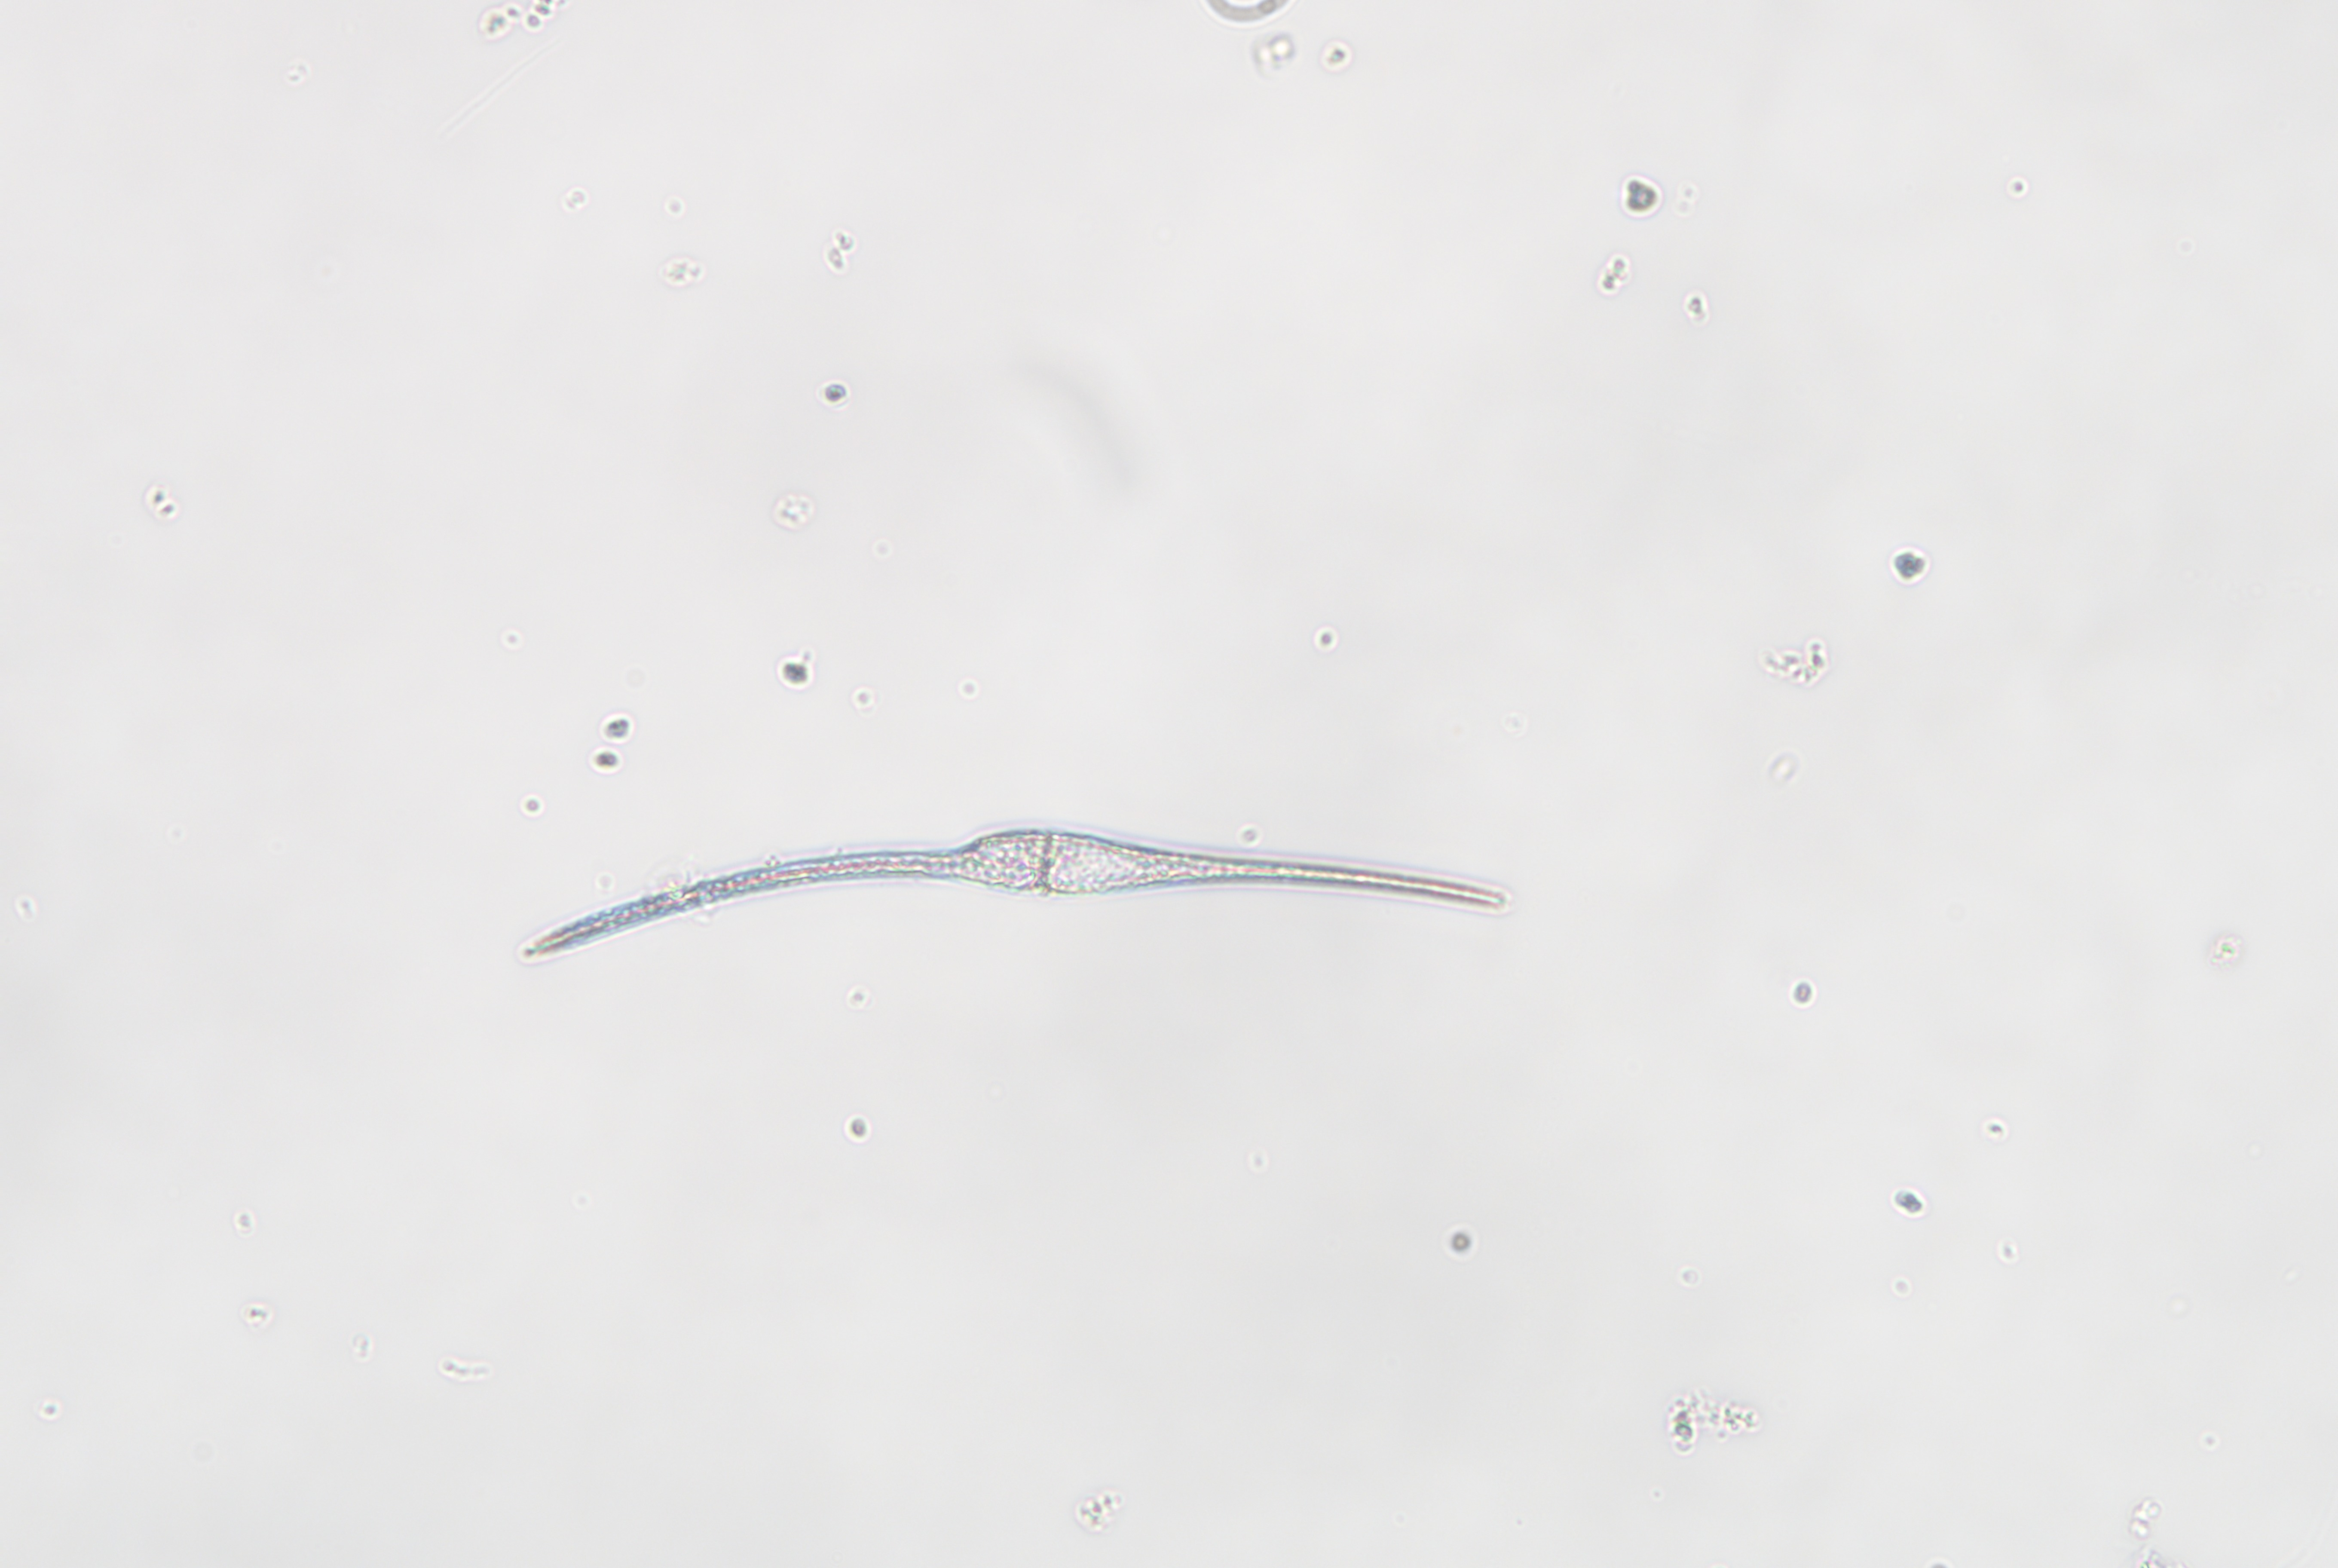ceratium fusus: (522, 826, 1507, 964)
